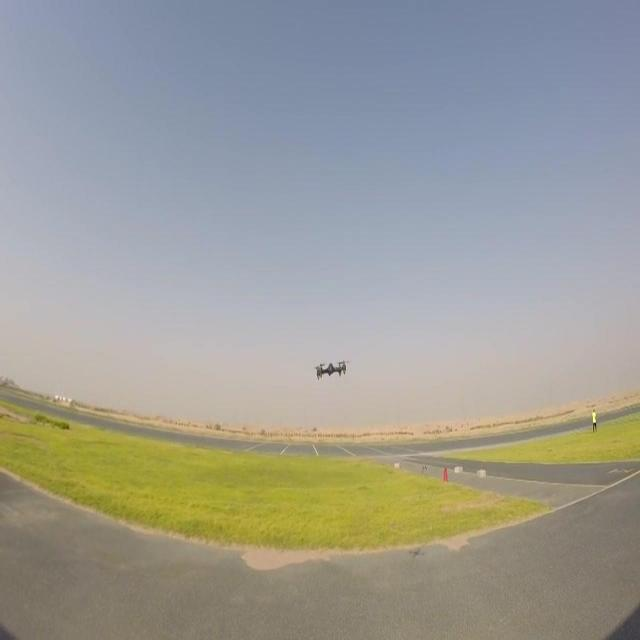UAV: (314, 360, 350, 380)
